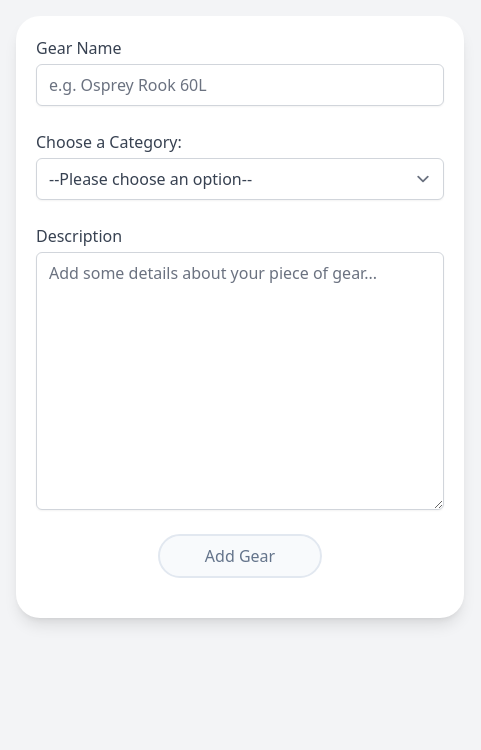
Scenario: GearForm tests › Display error messages › should render an error message if invalid character in name input
Type "Ü" into the field with placeholder "e.g. Osprey Rook 60L" at (240, 85), box [36, 64, 444, 106]
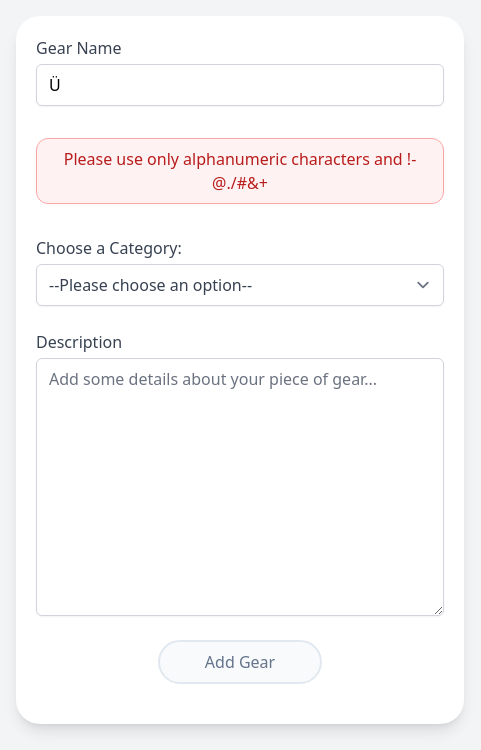
Check: the text "Please use only alphanumeric characters and !-@./#&+" is shown, box [36, 138, 444, 204]
